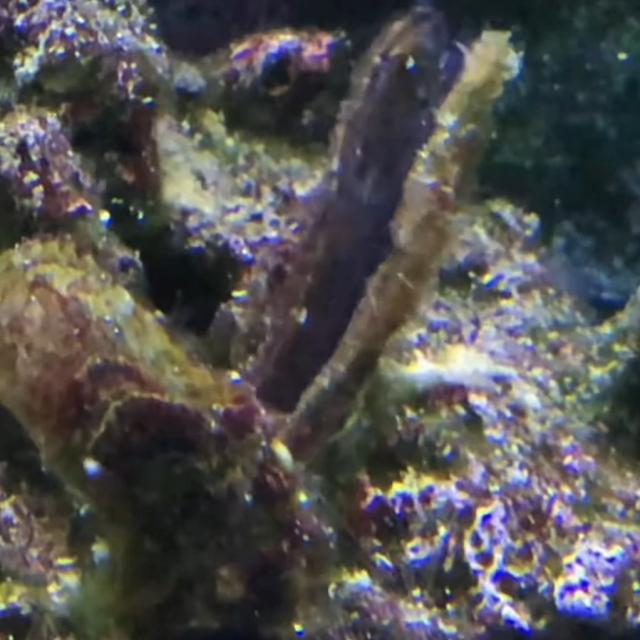Oyster-Indeterminate: (0, 234, 304, 603)
Oyster-Open: (207, 8, 520, 466)
